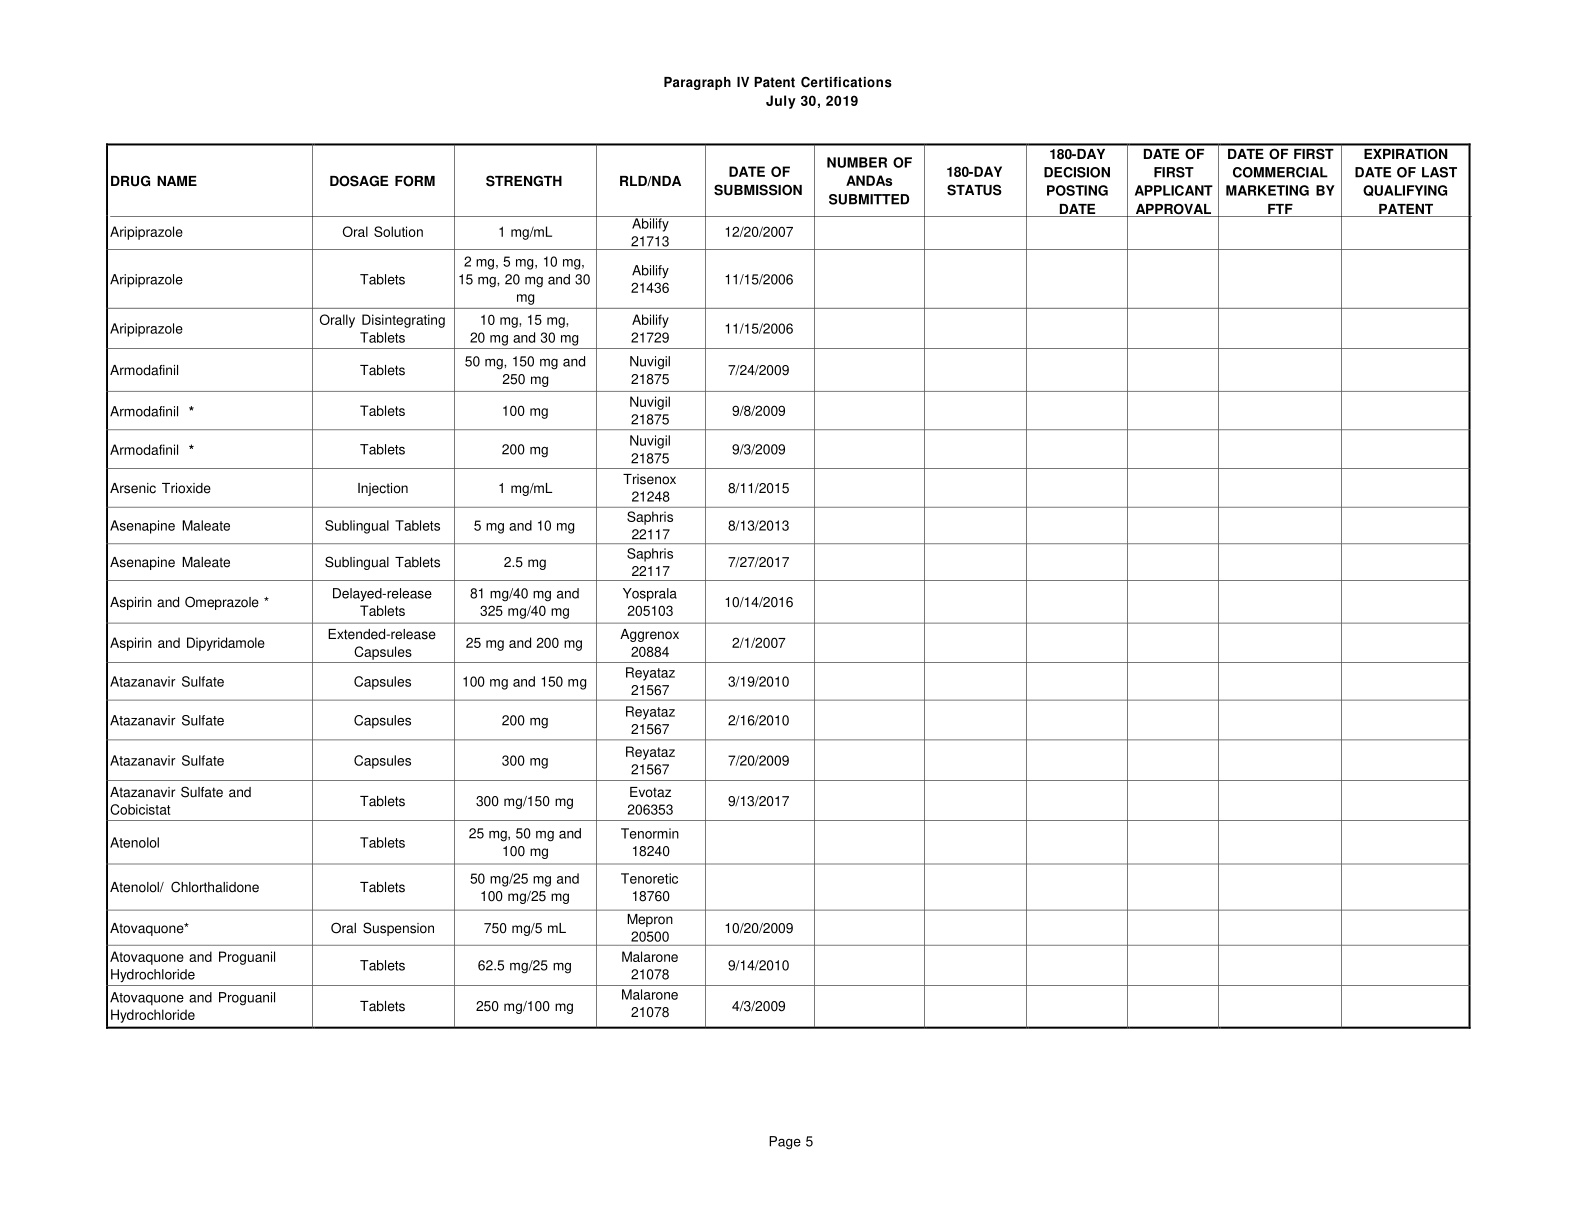full_lined: (105, 143, 1471, 1029)
